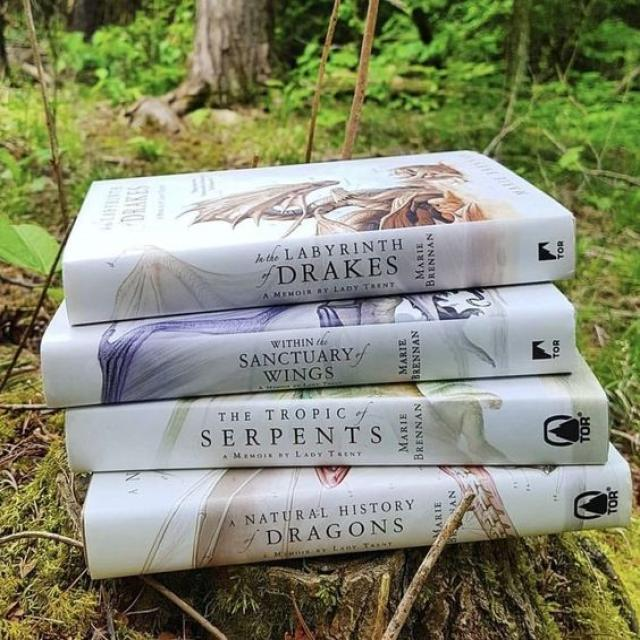book: (82, 466, 631, 580), (62, 215, 577, 329), (39, 311, 575, 411), (65, 401, 608, 473)
